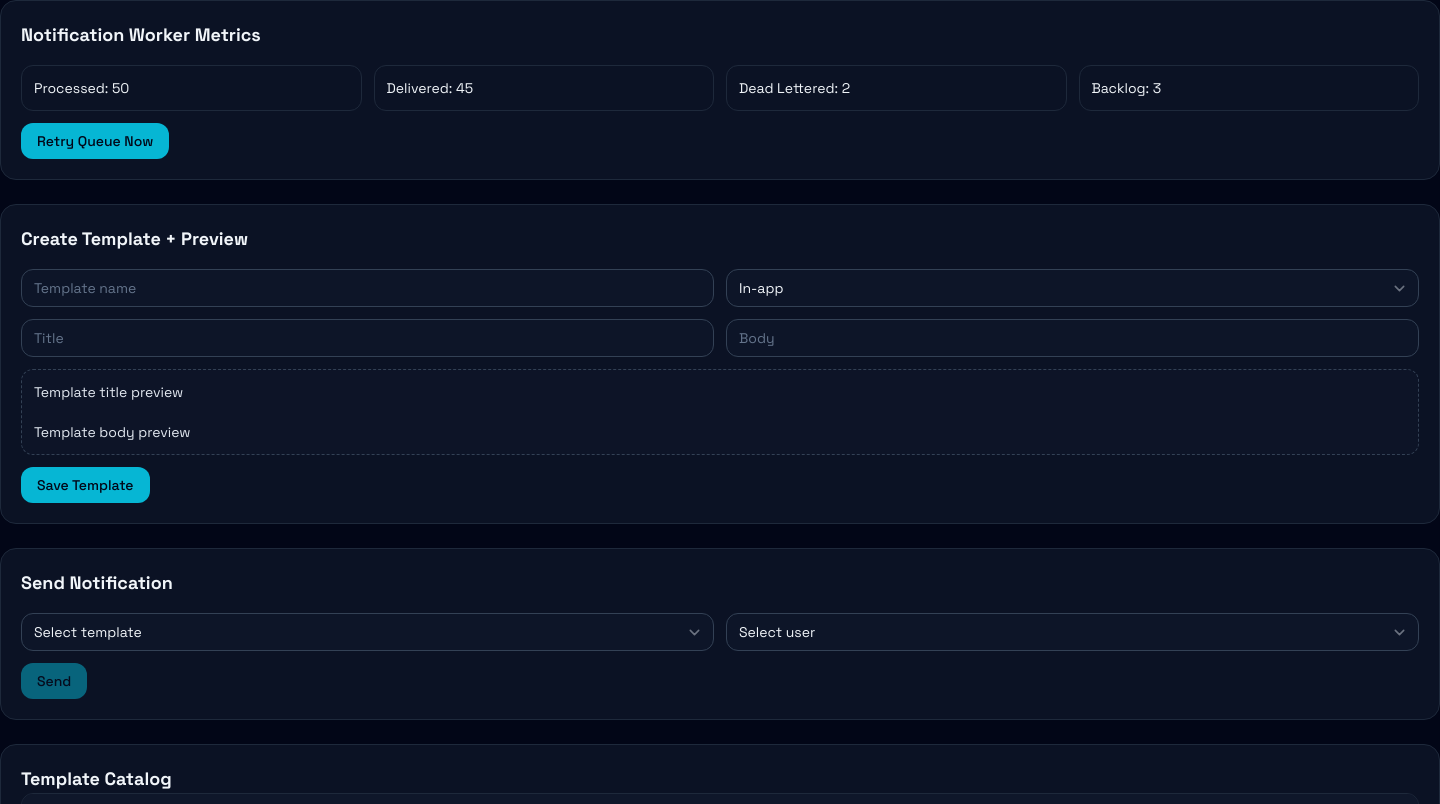
Scenario: AdminNotificationsPage › selecting template and user enables Send button
Select "Welcome" in the 2nd dropdown: [368, 632] box [21,613,714,651]
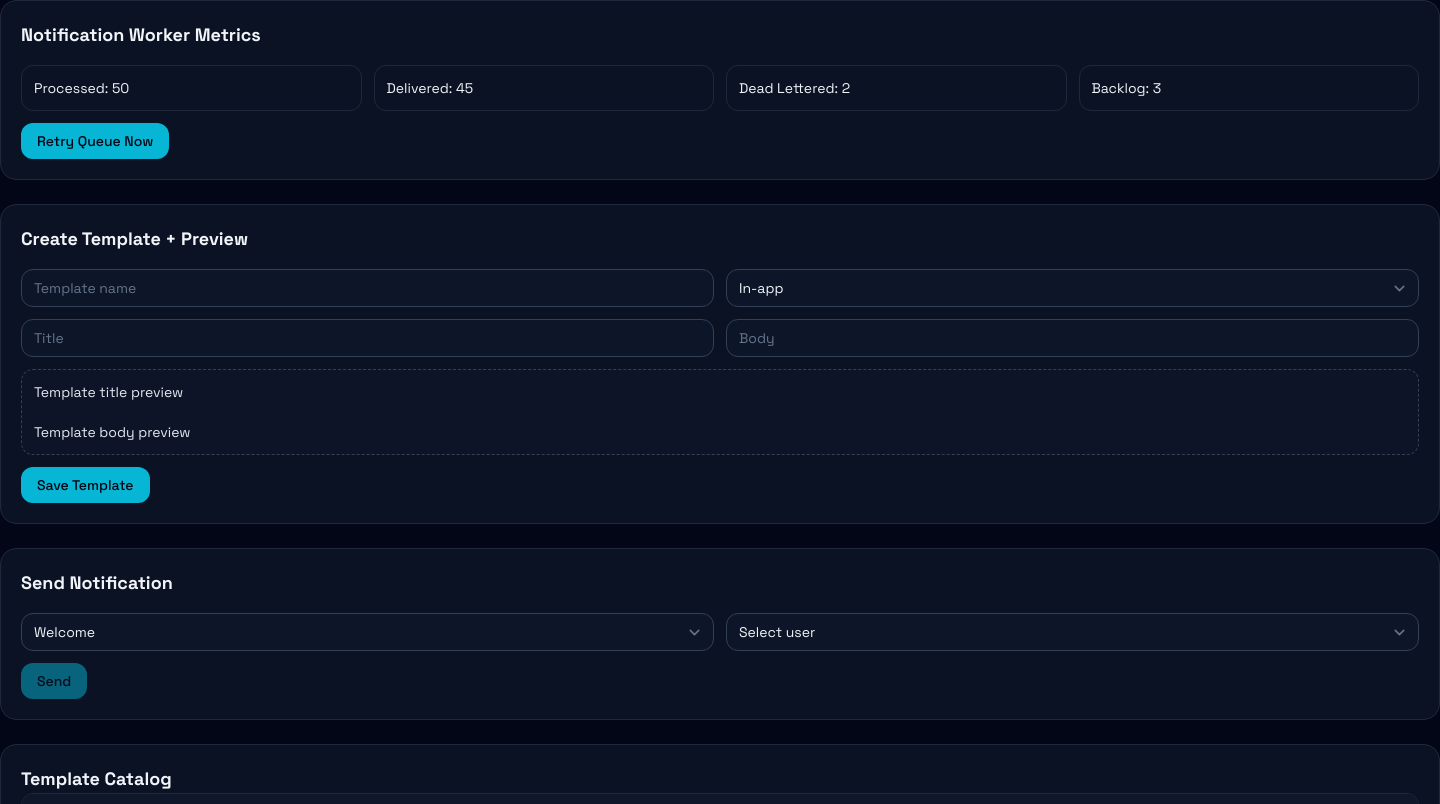
Select "alice" in the 3rd dropdown: [1072, 632] box [726,613,1419,651]
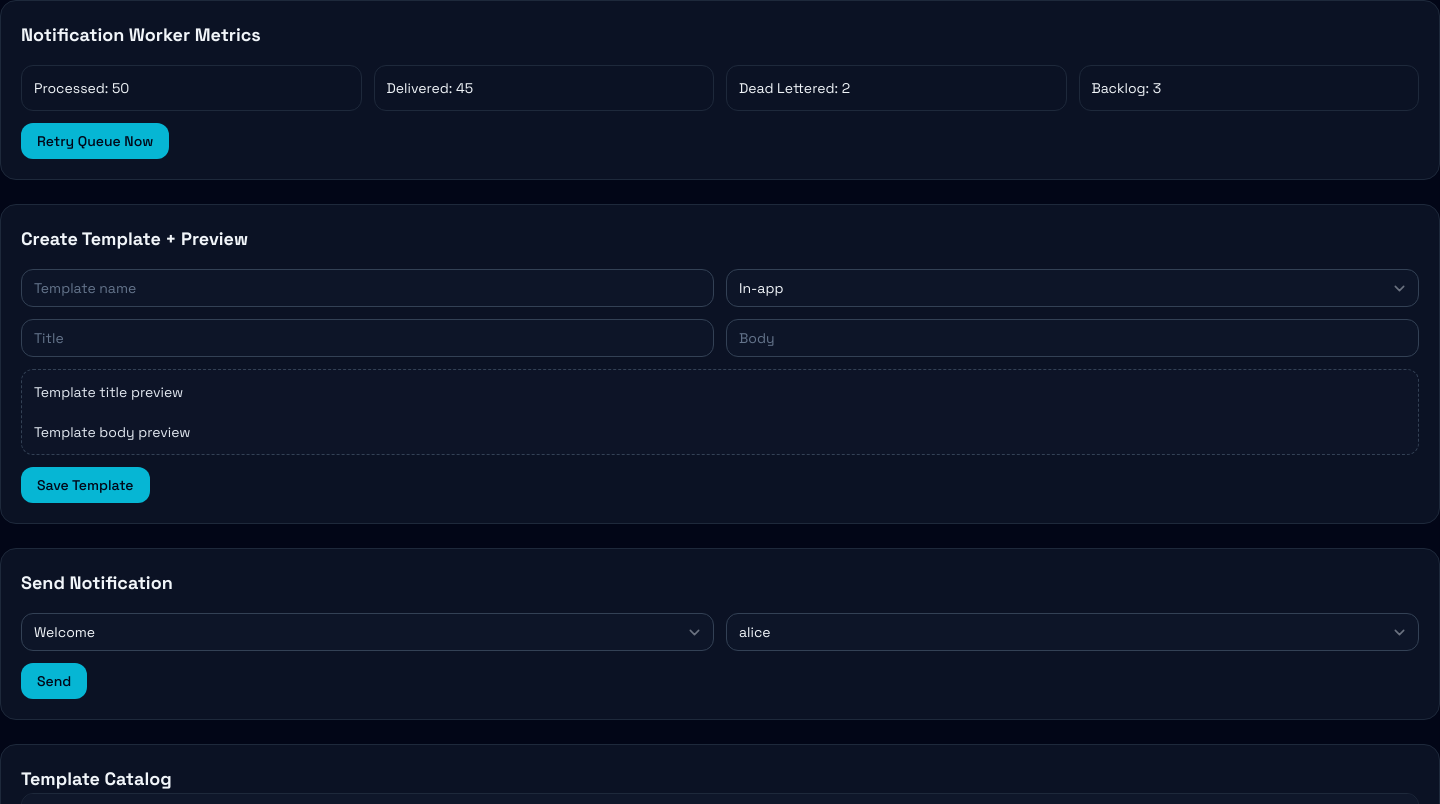
Expected: the button "Send" is enabled, [21,663,87,699]
